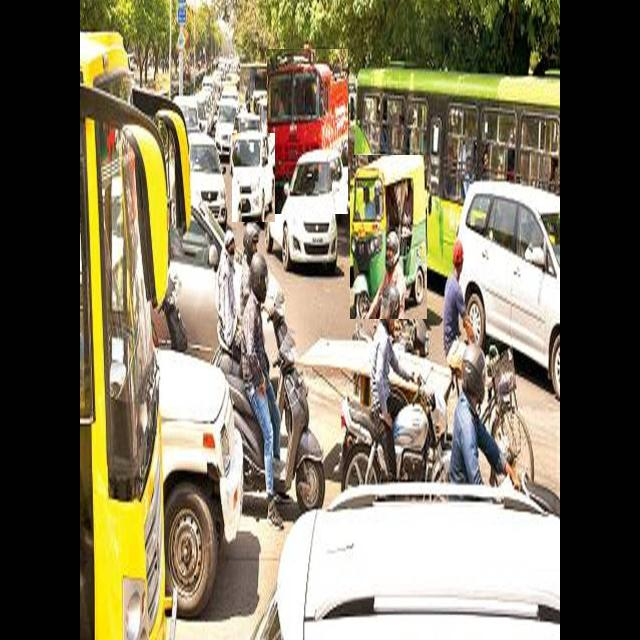autorickshaw: (351, 155, 427, 319)
bicycle: (442, 240, 534, 480)
bus: (355, 64, 560, 276)
car: (265, 151, 338, 272), (232, 134, 275, 222), (189, 133, 228, 229)
emergency: (268, 49, 348, 214)
motorcycle: (228, 253, 325, 528), (341, 289, 450, 488)
